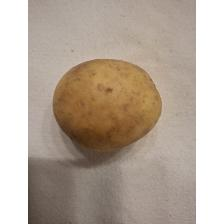Kartoffel: (48, 54, 163, 154)
